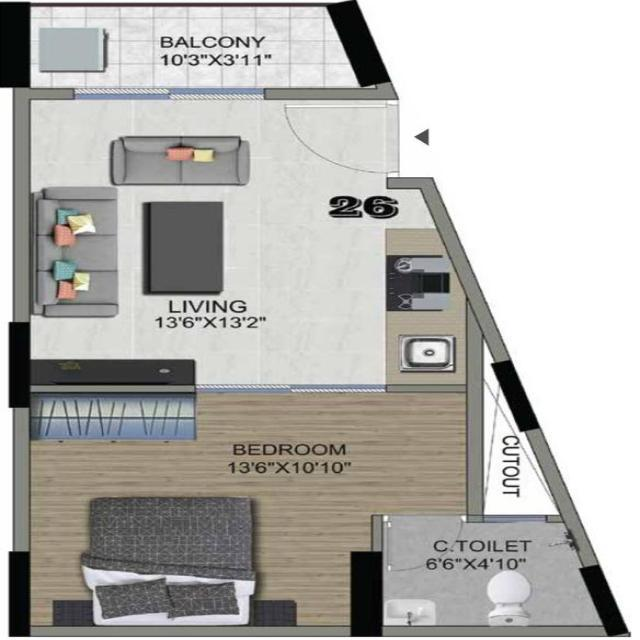Balcony-Sitout: (6, 1, 357, 87)
Bedroom with Toilet: (11, 386, 633, 640)
Living: (13, 91, 387, 395)
Toilet: (383, 523, 637, 640)
